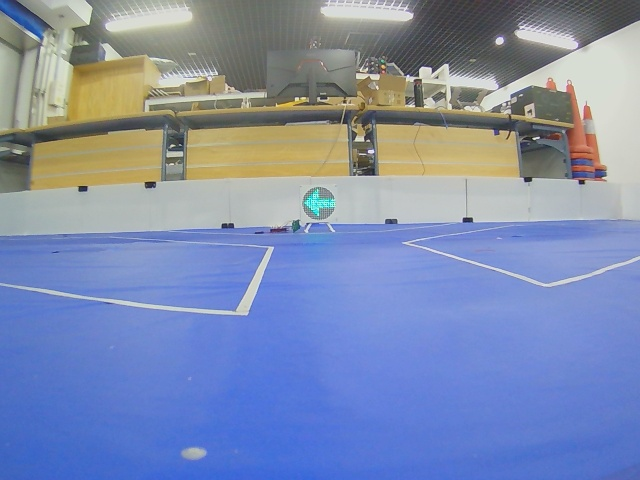left_green: (302, 187, 336, 221)
